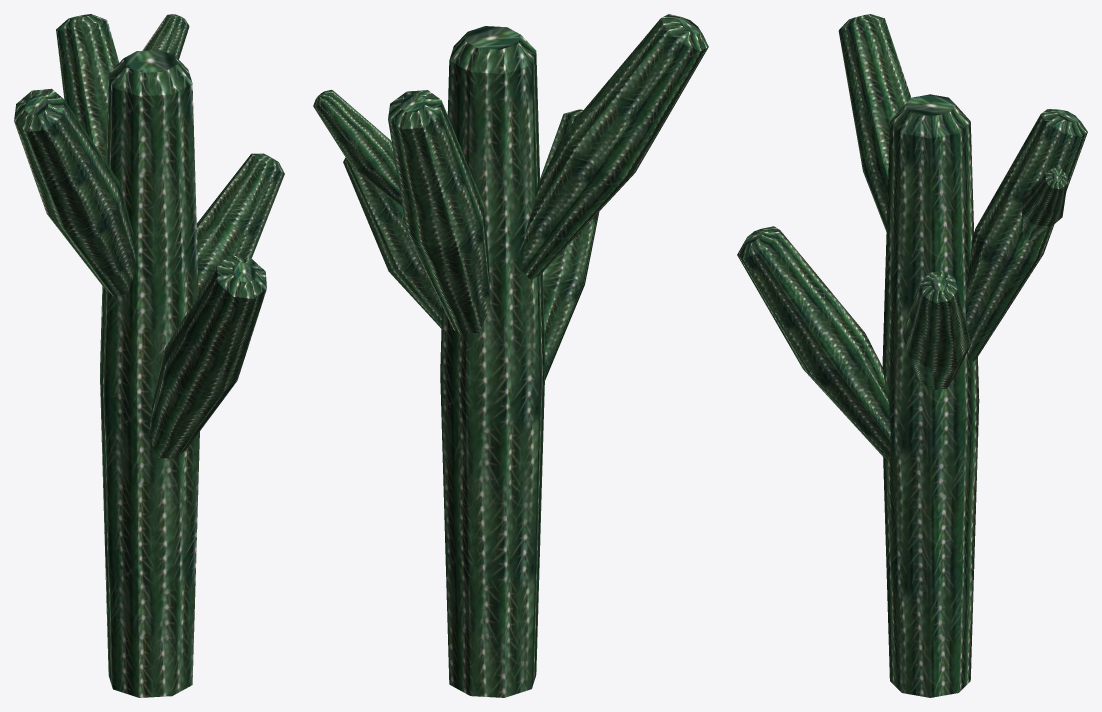
Rendered from cactus_6.fbx.
3 views of the same model, side by side, from view 1: azimuth 30°, elevation 25°; view 2: azimuth 150°, elevation 25°; view 3: azimuth 270°, elevation 25° (orthographic). The views are drawn at different scales.
Parts seen in each view (by area): view 1: Cylinder; view 2: Cylinder; view 3: Cylinder.
Part boxes in pixels (left/top/right/bottom): Cylinder: left=14, top=14, right=284, bottom=697; Cylinder: left=313, top=14, right=708, bottom=697; Cylinder: left=737, top=14, right=1087, bottom=697.
Bounding box in the file's own units: 326 × 660 × 349.
Materials: 1 (1 with a texture image).
